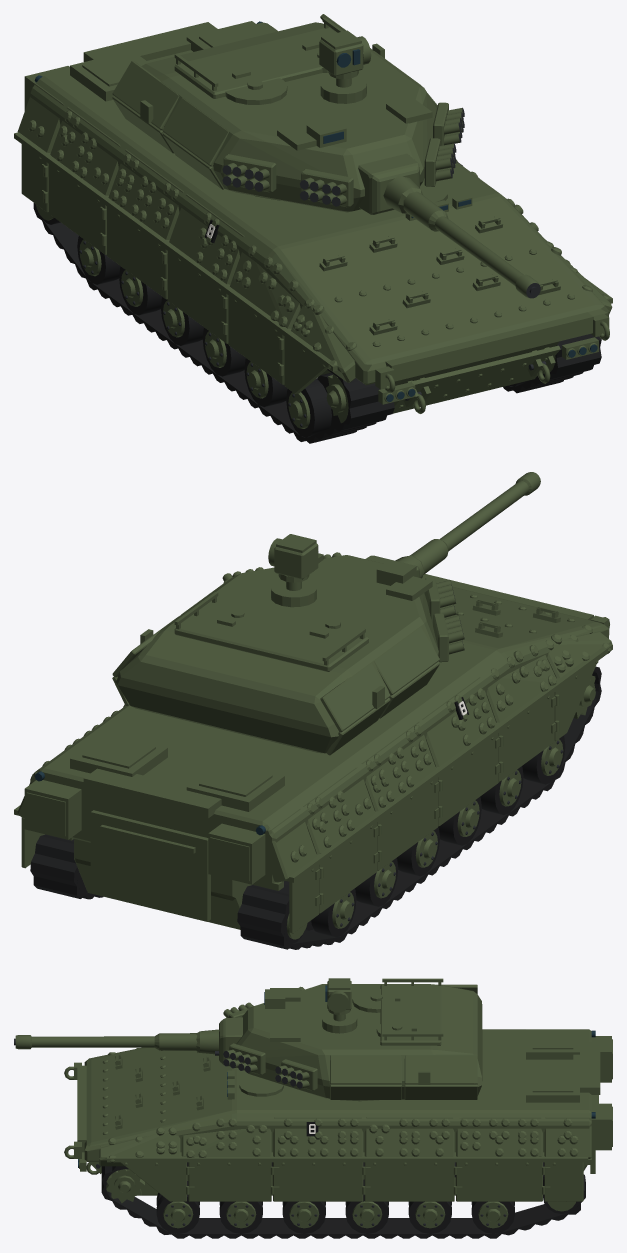
Rendered from tank.glb.
3 views of the same model, one above another, from view 1: azimuth 30°, elevation 25°; view 2: azimuth 150°, elevation 25°; view 3: azimuth 270°, elevation 25° (orthographic). The views are drawn at different scales.
Visible parts, largest first — view 1: hull, turret, tracks, gun; view 2: hull, turret, tracks, gun; view 3: hull, turret, tracks, gun.
Part boxes in pixels (x1,y1,x2,y2): hull: (14,21,612,413); turret: (112,14,464,212); tracks: (33,203,601,443); gun: (358,153,540,298); hull: (14,574,612,933); turret: (112,534,464,755); tracks: (30,666,601,949); gun: (365,472,540,578); hull: (64,1029,612,1201); turret: (223,978,482,1099); tracks: (101,1162,585,1238); gun: (14,1017,242,1066).
Bounding box in the file's own units: 3.62 × 3.55 × 8.84.
